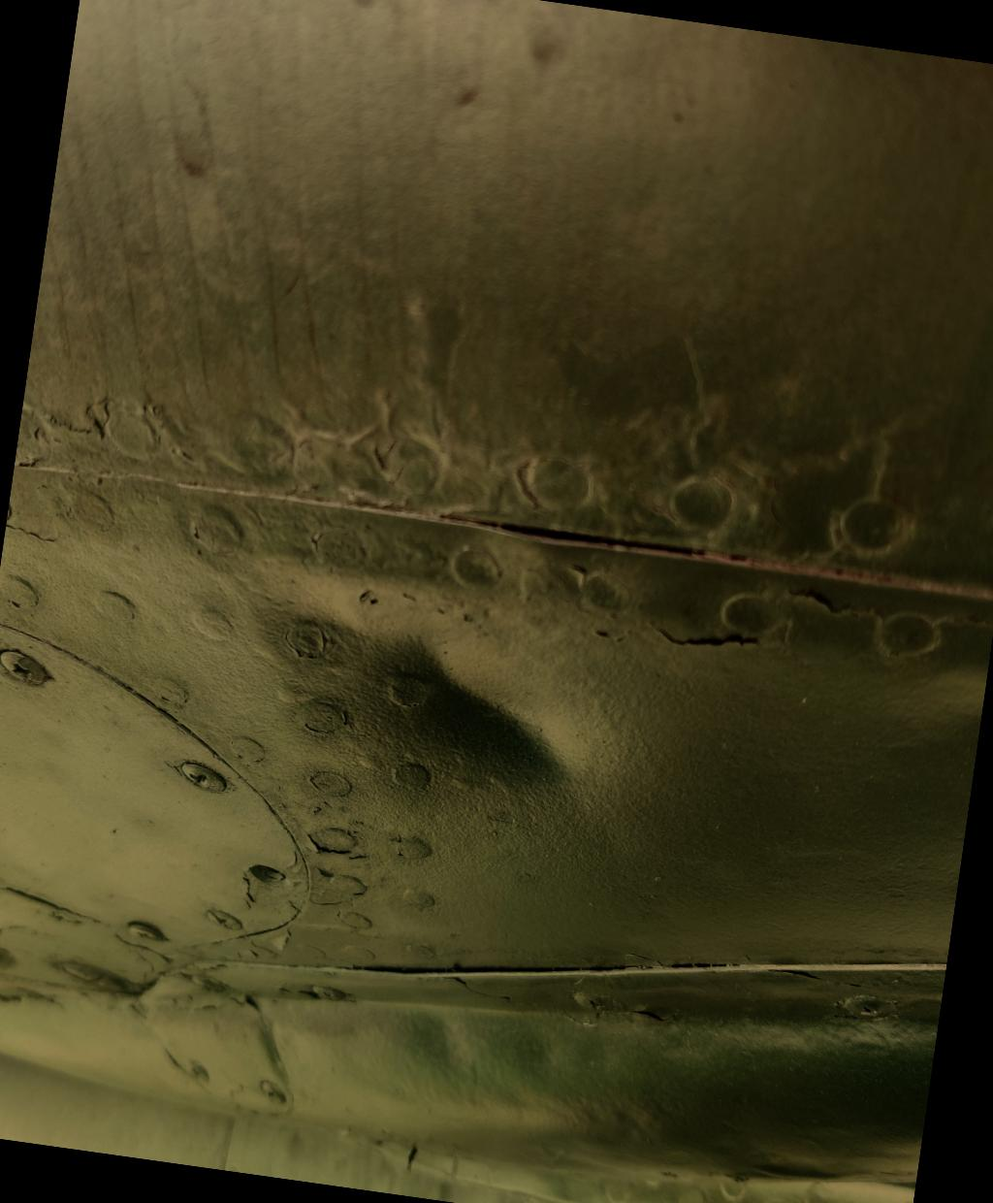dent: (298, 606, 597, 813)
